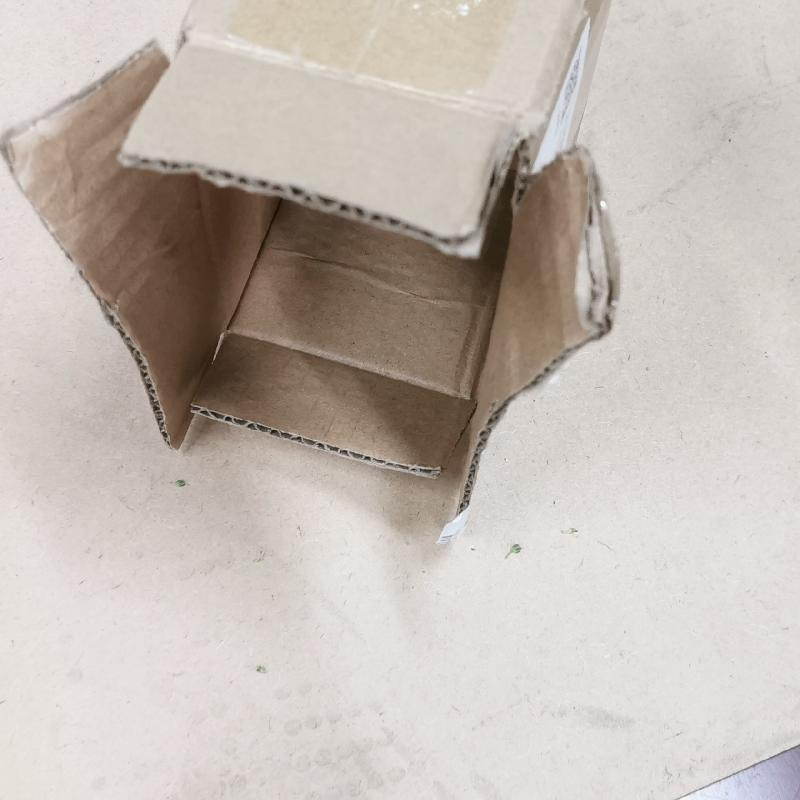boxes: (5, 8, 629, 536)
